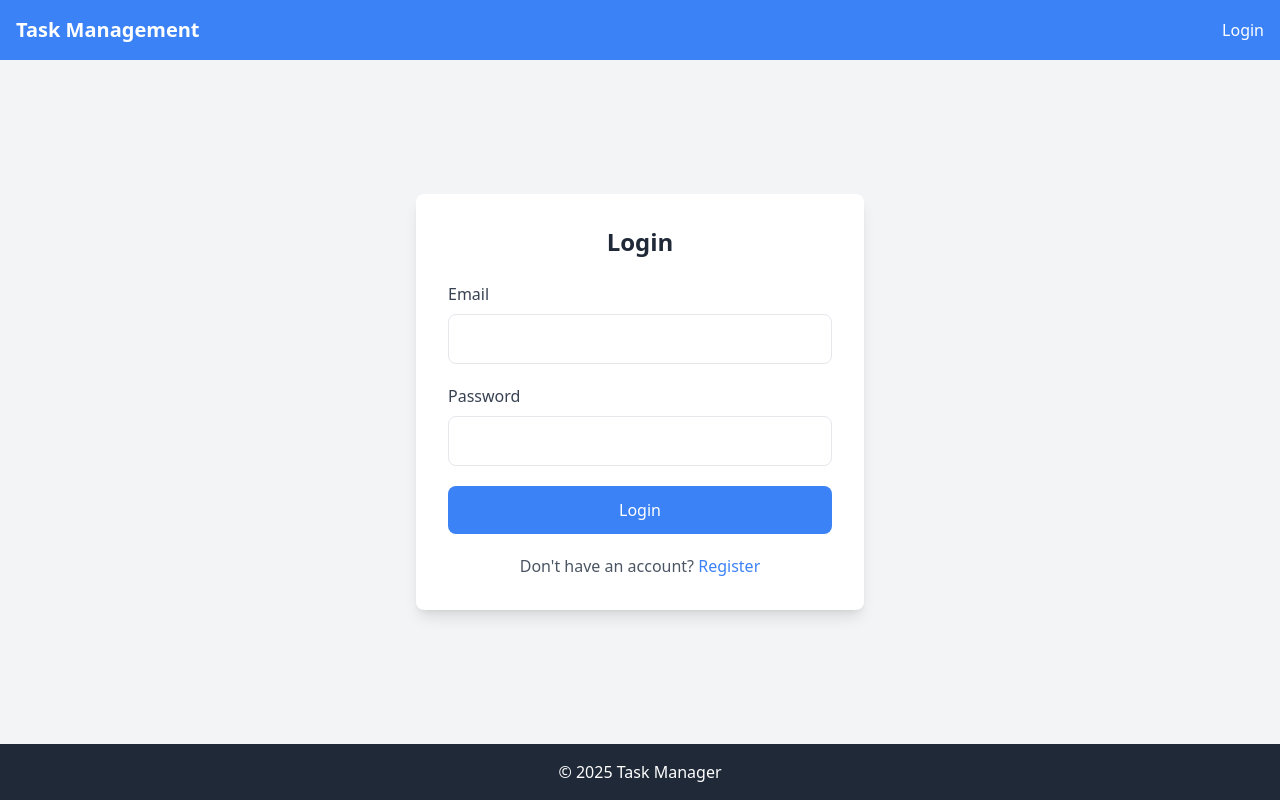
Test: Login page › shows error on invalid credentials
This screenshot has width=1280, height=800.
In the field labelled "Email": (640, 339) left=448, top=314, right=832, bottom=364, type "wrong@example.com"
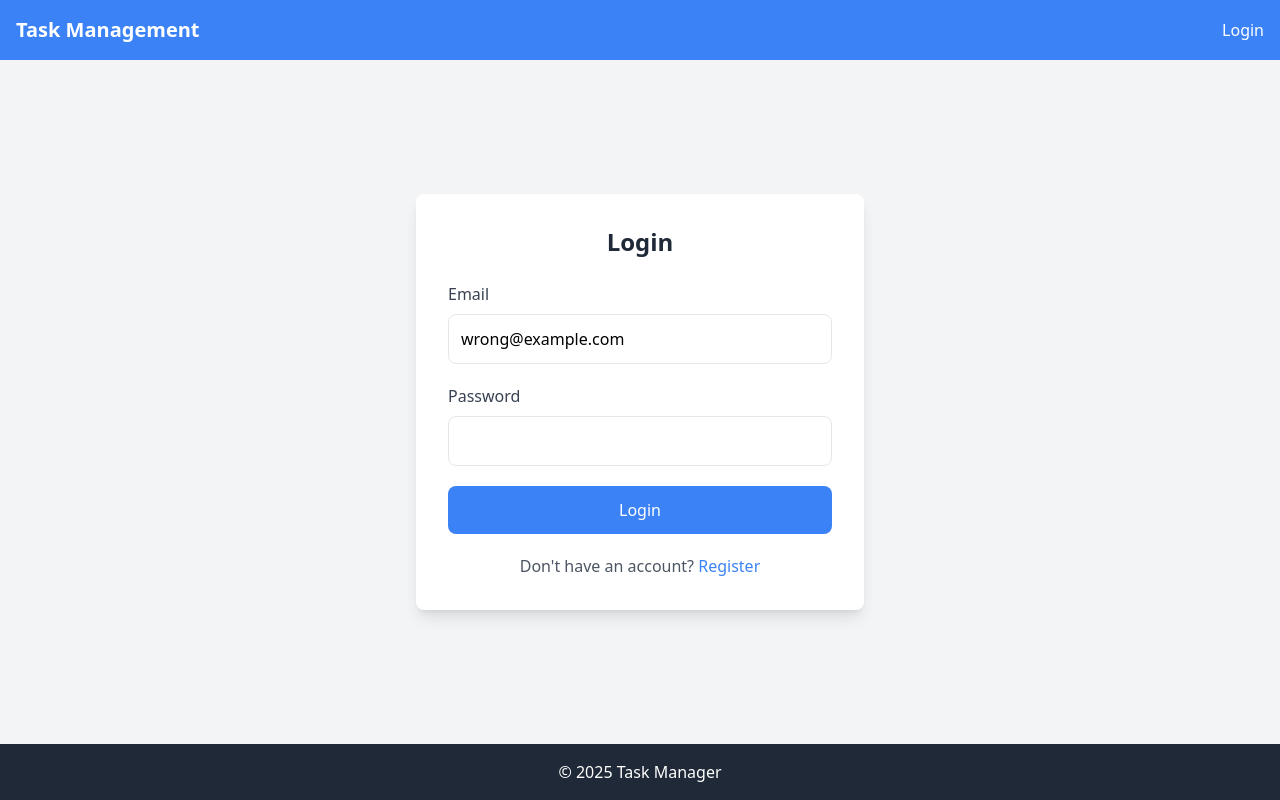
In the password field labelled "Password": (640, 441) left=448, top=416, right=832, bottom=466, type "wrong"
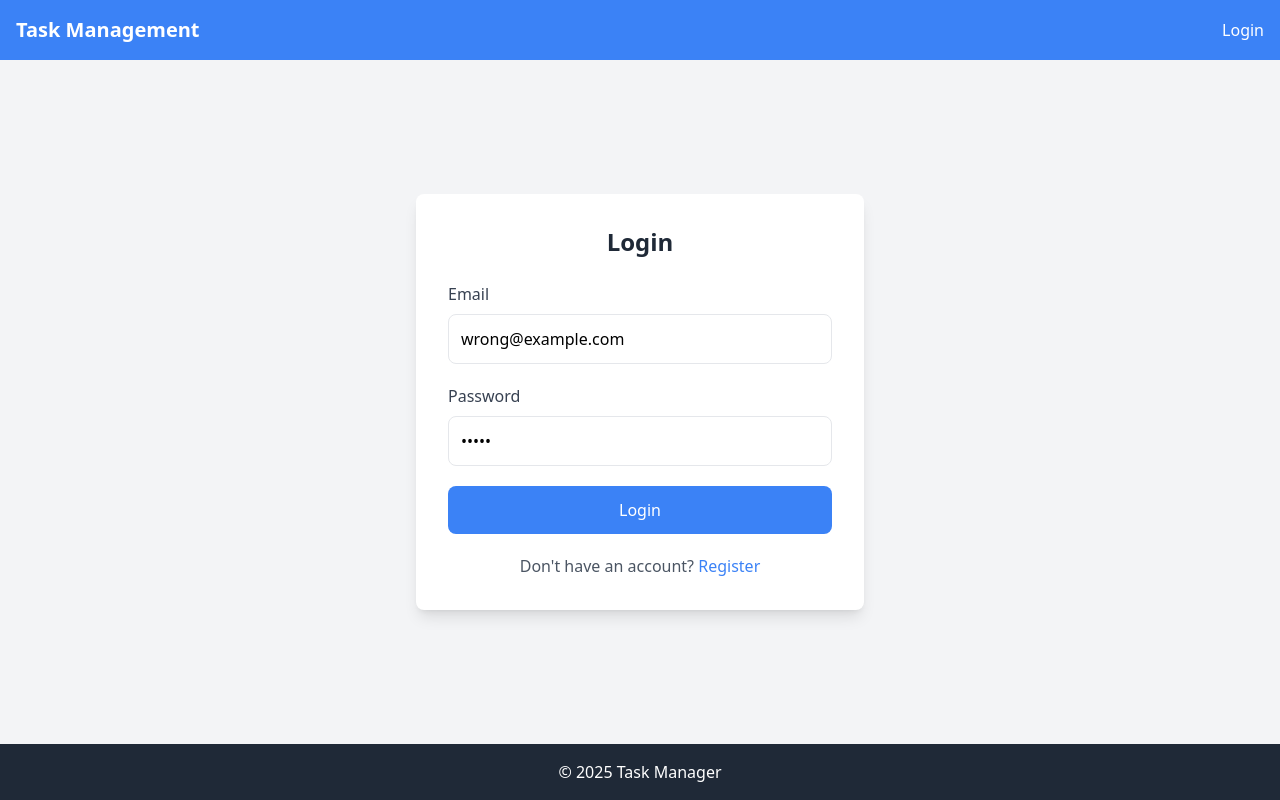
Click the button "Login": (640, 510) left=448, top=486, right=832, bottom=534
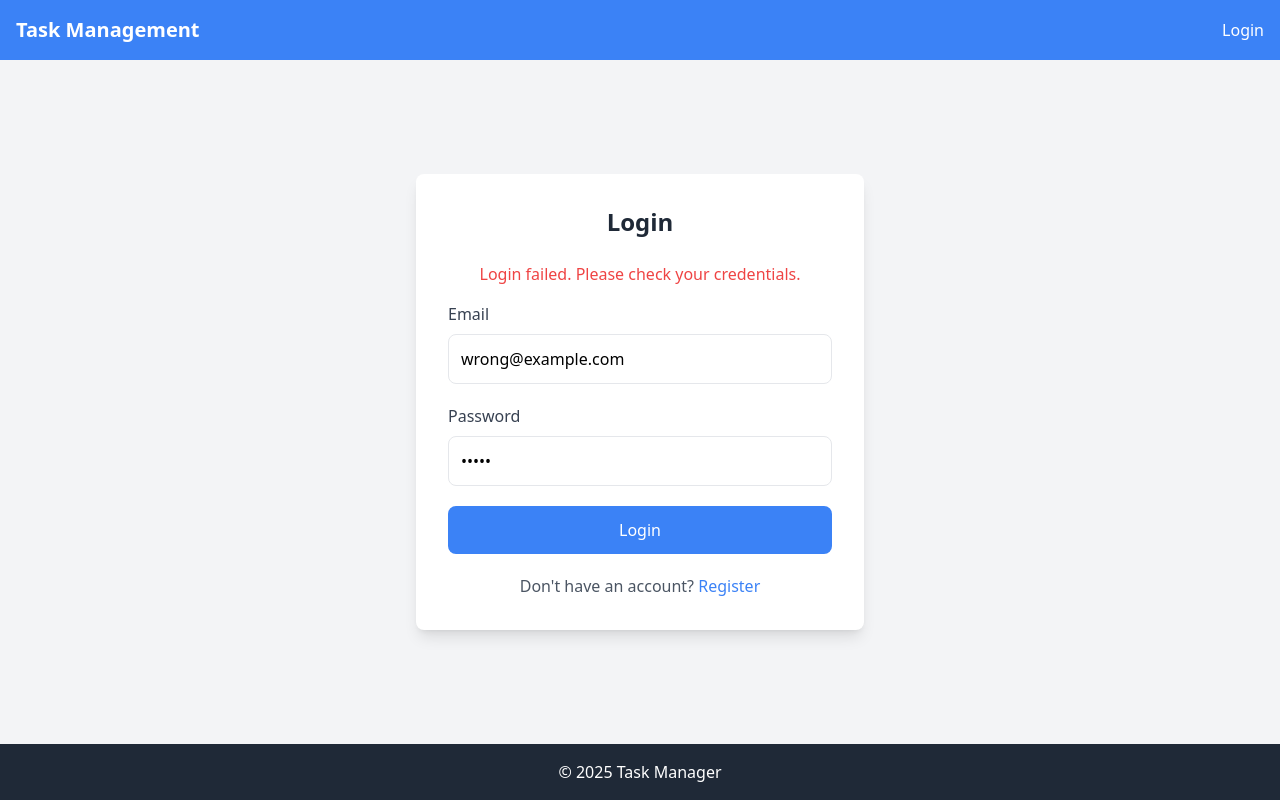
Now the text "Login failed. Please check your credentials." is shown, box left=480, top=263, right=800, bottom=285
